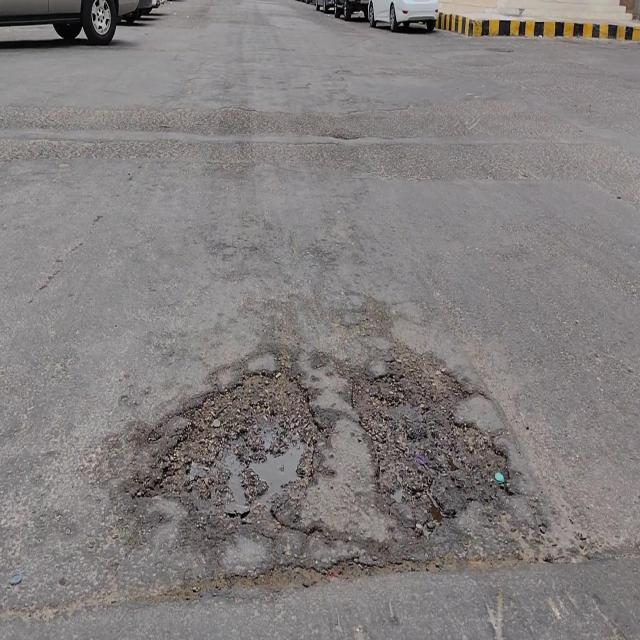Pothole: (348, 343, 514, 542), (137, 363, 322, 525)
